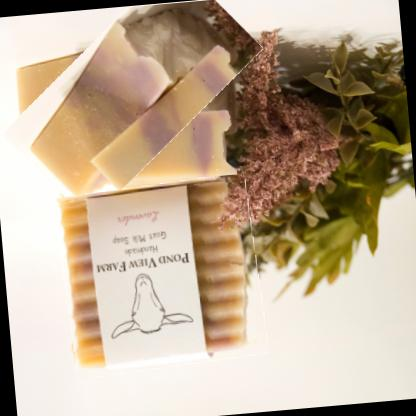soap: (0, 0, 270, 198), (55, 174, 266, 377)
